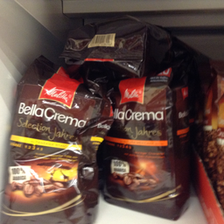coffee: (2, 68, 100, 224), (107, 73, 187, 220)
